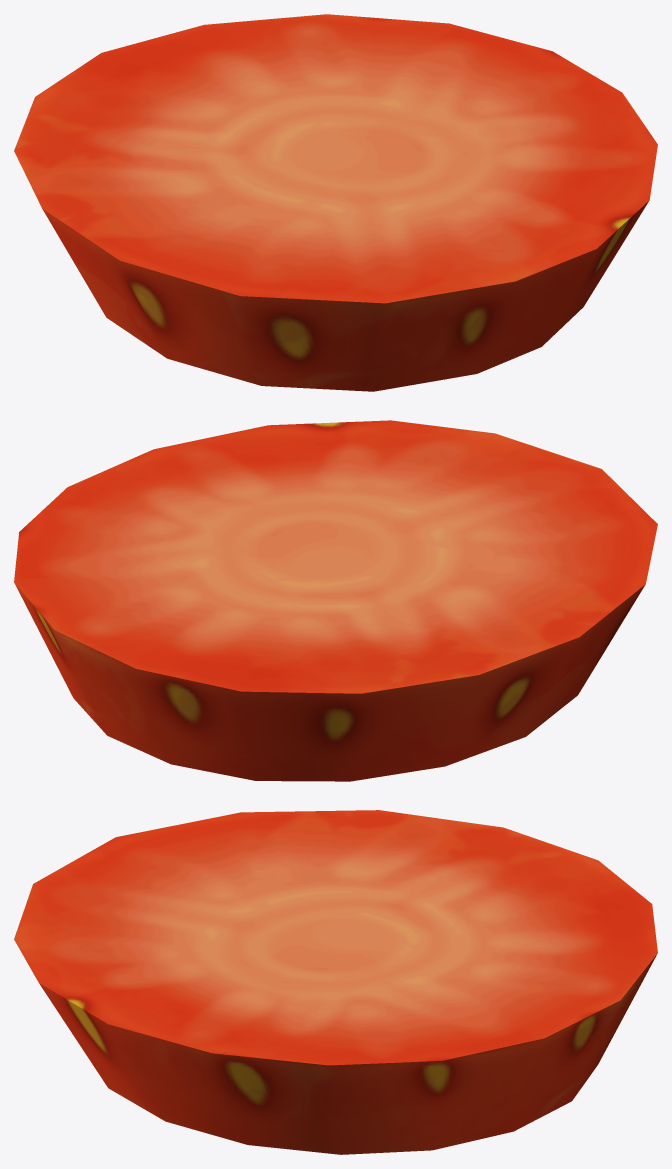
The model's file is SM_StrawberrySliceC.fbx.
3 renders of one model, top to bottom at view 1: azimuth 30°, elevation 25°; view 2: azimuth 150°, elevation 25°; view 3: azimuth 270°, elevation 25°, orthographic. The views are drawn at different scales.
Visible parts, largest first — view 1: SM_StrawberrySliceC; view 2: SM_StrawberrySliceC; view 3: SM_StrawberrySliceC.
Part boxes in pixels (box(x1,y1,x2,y2)): SM_StrawberrySliceC: box(14, 14, 657, 391); SM_StrawberrySliceC: box(14, 420, 657, 781); SM_StrawberrySliceC: box(14, 810, 657, 1154).
Bounding box in the file's own units: 5.87 × 1.22 × 6.26.
